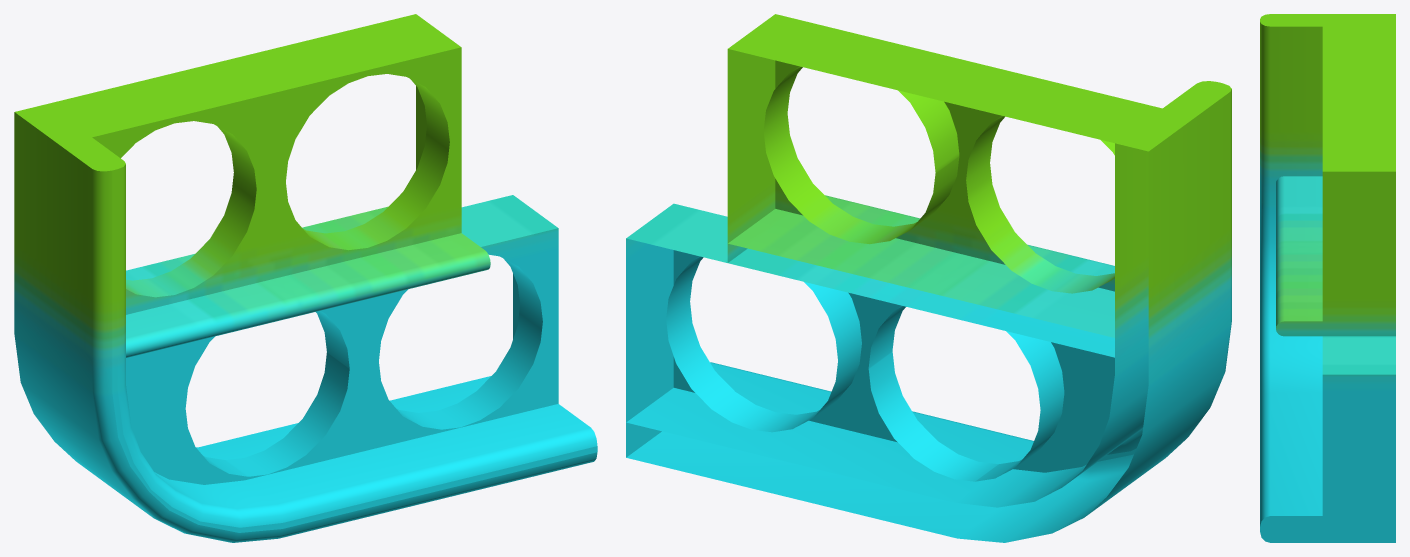
The model's file is Amongus02_Cut_005_0.FBX.
3 views of the same model, side by side, from view 1: azimuth 30°, elevation 25°; view 2: azimuth 150°, elevation 25°; view 3: azimuth 270°, elevation 25° (orthographic). The views are drawn at different scales.
Parts seen in each view (by area): view 1: Amongus02_Cut_005_0; view 2: Amongus02_Cut_005_0; view 3: Amongus02_Cut_005_0.
Part boxes in pixels (x1,y1,x2,y2): Amongus02_Cut_005_0: (14, 14, 597, 542); Amongus02_Cut_005_0: (626, 14, 1231, 542); Amongus02_Cut_005_0: (1260, 14, 1395, 542).
Bounding box in the file's own units: 2.13 × 0.6244 × 1.69.
